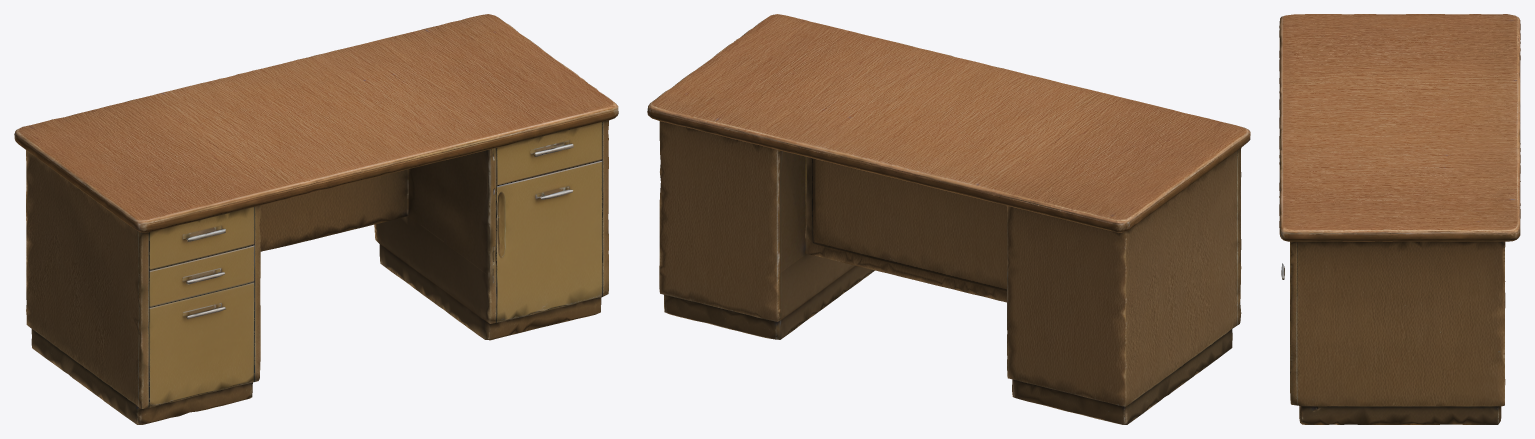
Rendered from VAR_Yellow_OfficeDesk.fbx.
The picture shows the model from 3 angles, left to right: view 1: azimuth 30°, elevation 25°; view 2: azimuth 150°, elevation 25°; view 3: azimuth 270°, elevation 25°; orthographic projection. The views are drawn at different scales.
Parts seen in each view (by area): view 1: texture_mapping; view 2: texture_mapping; view 3: texture_mapping.
Part boxes in pixels (x1,y1,x2,y2): texture_mapping: (14,14,618,424); texture_mapping: (647,14,1250,424); texture_mapping: (1279,14,1520,424).
Size of the model in its own units: 0.9995 by 0.4666 by 0.4237.
1 material, 1 textured.
